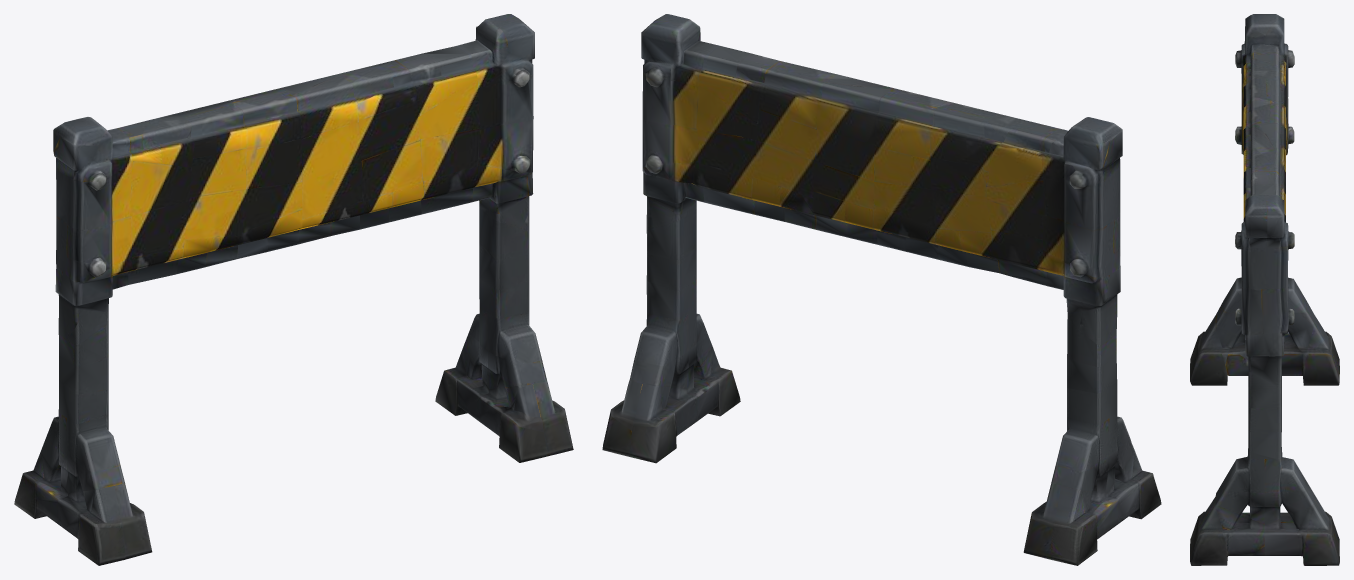
Rendered from hurdle.glb.
The picture shows the model from 3 angles, left to right: view 1: azimuth 30°, elevation 25°; view 2: azimuth 150°, elevation 25°; view 3: azimuth 270°, elevation 25°; orthographic projection. The views are drawn at different scales.
Parts seen in each view (by area): view 1: mesh_node; view 2: mesh_node; view 3: mesh_node.
Boxes of the visible parts, left/top/right/bottom form: mesh_node: left=14, top=14, right=573, bottom=565; mesh_node: left=602, top=14, right=1161, bottom=565; mesh_node: left=1190, top=14, right=1339, bottom=565.
Bounding box in the file's own units: 1.9 × 1.55 × 0.5922.
Materials: 1 (1 with a texture image).
